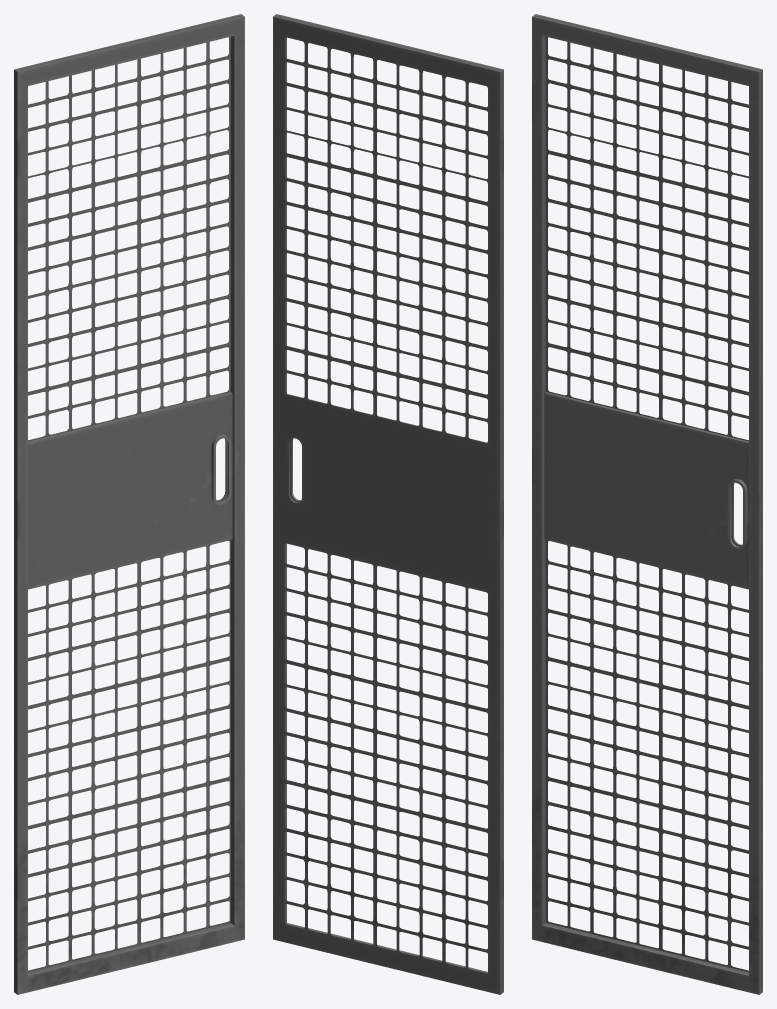
The model's file is SM_ventilated_locker_door.fbx.
The picture shows the model from 3 angles, left to right: view 1: azimuth 30°, elevation 25°; view 2: azimuth 150°, elevation 25°; view 3: azimuth 330°, elevation 25°; orthographic projection.
Parts seen in each view (by area): view 1: SM_ventilated_locker_door_LOD0; view 2: SM_ventilated_locker_door_LOD0; view 3: SM_ventilated_locker_door_LOD0.
Part boxes in pixels (x1=…): SM_ventilated_locker_door_LOD0: x1=14, y1=14, x2=244, y2=994; SM_ventilated_locker_door_LOD0: x1=273, y1=14, x2=503, y2=994; SM_ventilated_locker_door_LOD0: x1=532, y1=14, x2=762, y2=994.
Size of the model in its own units: 67.31 by 1.9 by 261.
1 material, 1 textured.
